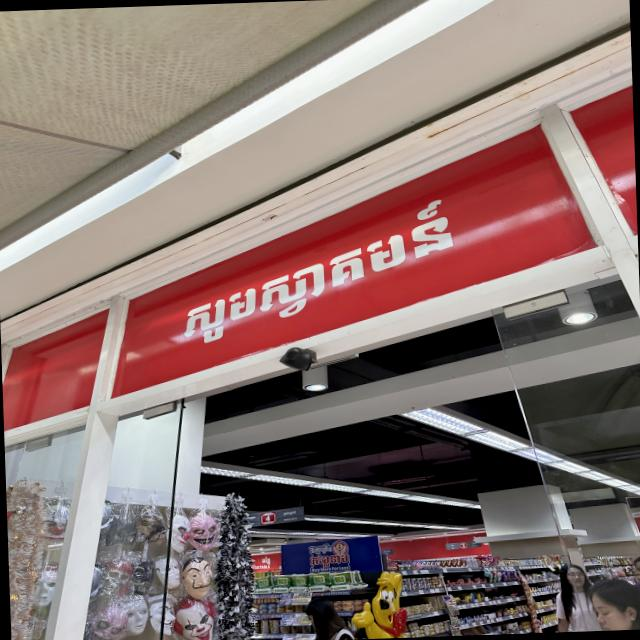Yolov11kh: (168, 189, 471, 356)
